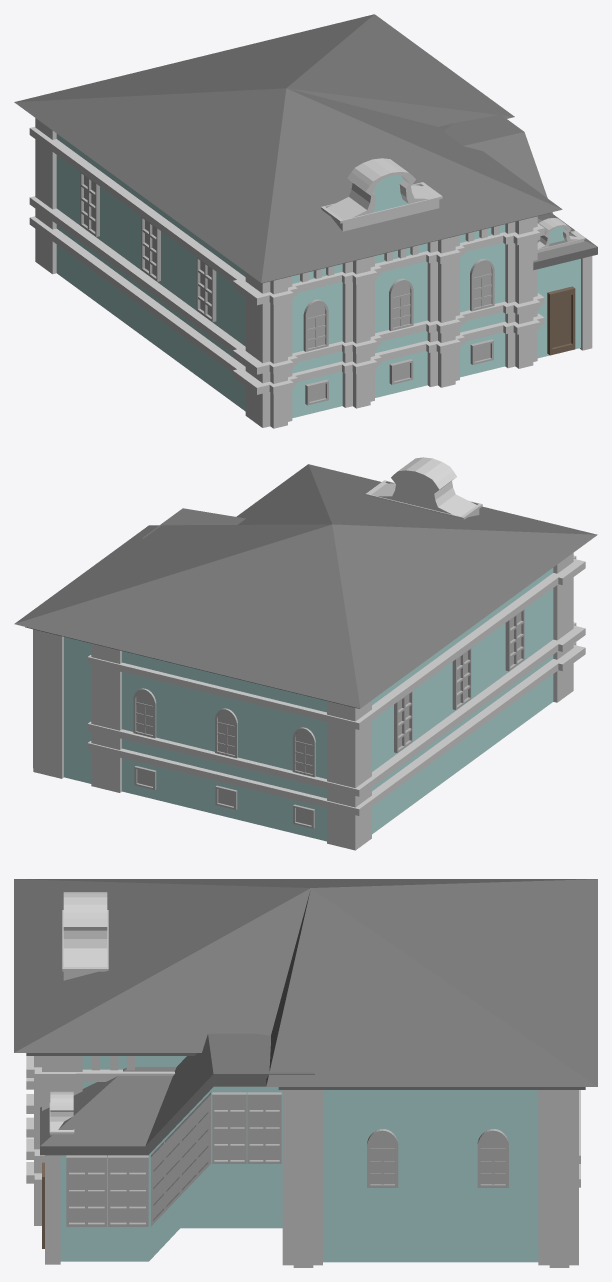
Rendered from urushev.glb.
The picture shows the model from 3 angles, top to bottom: view 1: azimuth 30°, elevation 25°; view 2: azimuth 150°, elevation 25°; view 3: azimuth 270°, elevation 25°; orthographic projection. The views are drawn at different scales.
Visible parts, largest first — view 1: Cube.046, Cylinder.009, Cube.002, Cube.040, Cube.045, Cube.044; view 2: Cube.046, Cylinder.009, Cube.002, Cube.040; view 3: Cube.046, Cube.002, Cylinder.009, Cube.040, Cube.044.
Boxes of the visible parts, bbox=[...] form: Cube.046: bbox=[14, 14, 597, 283]; Cylinder.009: bbox=[29, 118, 585, 428]; Cube.002: bbox=[56, 134, 580, 418]; Cube.040: bbox=[80, 172, 494, 405]; Cube.045: bbox=[547, 286, 575, 355]; Cube.044: bbox=[580, 256, 592, 350]; Cube.046: bbox=[14, 464, 597, 708]; Cylinder.009: bbox=[33, 457, 585, 850]; Cube.002: bbox=[64, 568, 553, 841]; Cube.040: bbox=[133, 609, 524, 828]; Cube.046: bbox=[14, 879, 597, 1155]; Cube.002: bbox=[60, 1056, 538, 1262]; Cylinder.009: bbox=[26, 892, 580, 1267]; Cube.040: bbox=[66, 1092, 508, 1226]; Cube.044: bbox=[45, 1155, 60, 1264].
Size of the model in its own units: 1.22 by 0.7247 by 1.45.
